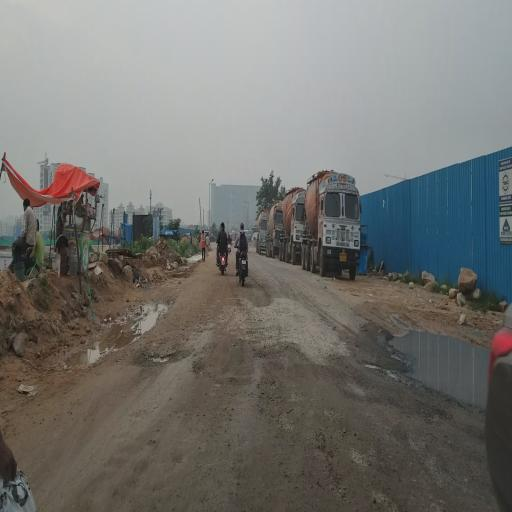street_light_0: (204, 172, 217, 190)
